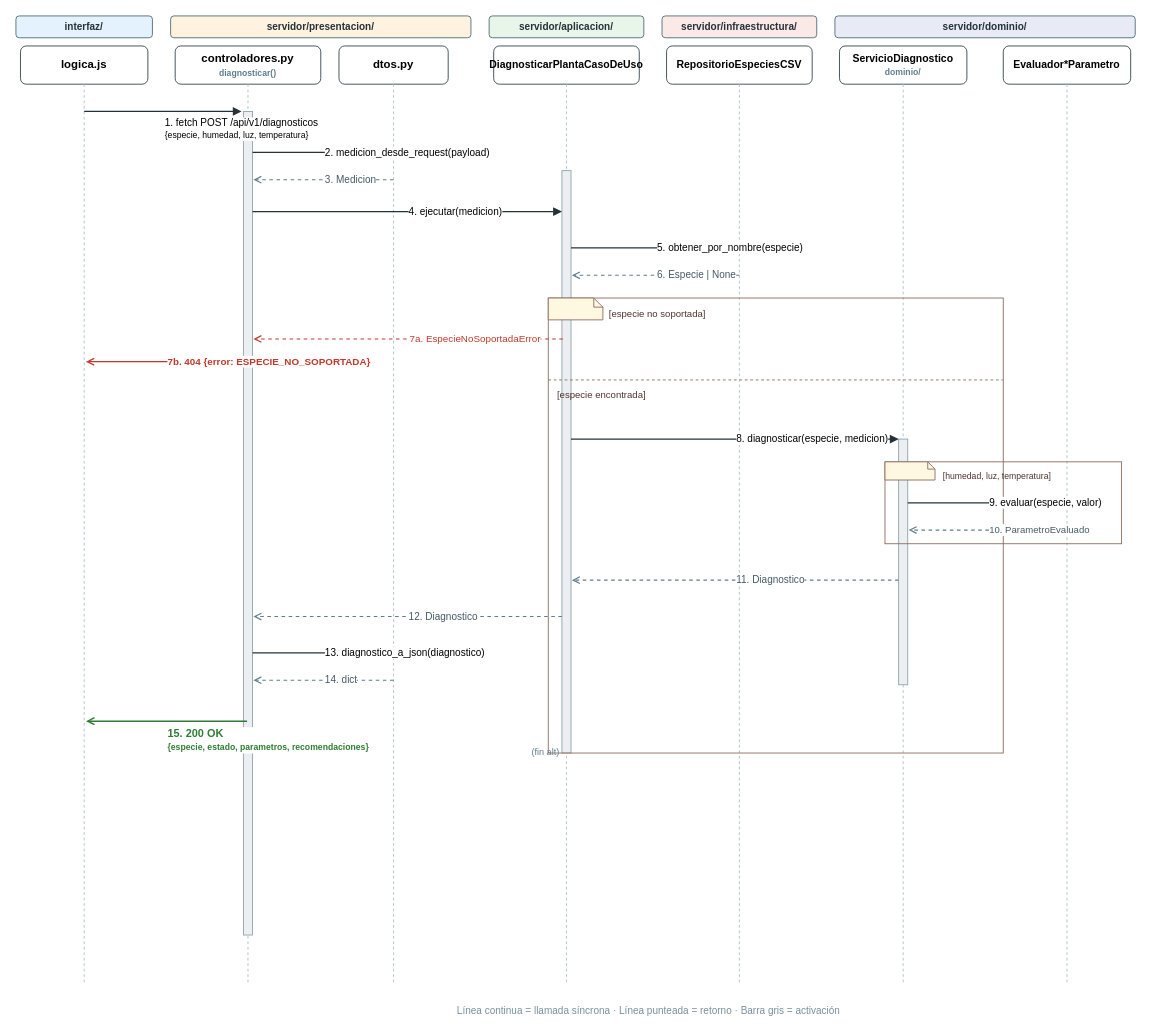
This 1151x1033 diagram has some shape labels left out. Each missing label, with the box of its shape:
alt: (547, 297, 603, 320)
loop: (884, 461, 935, 480)
